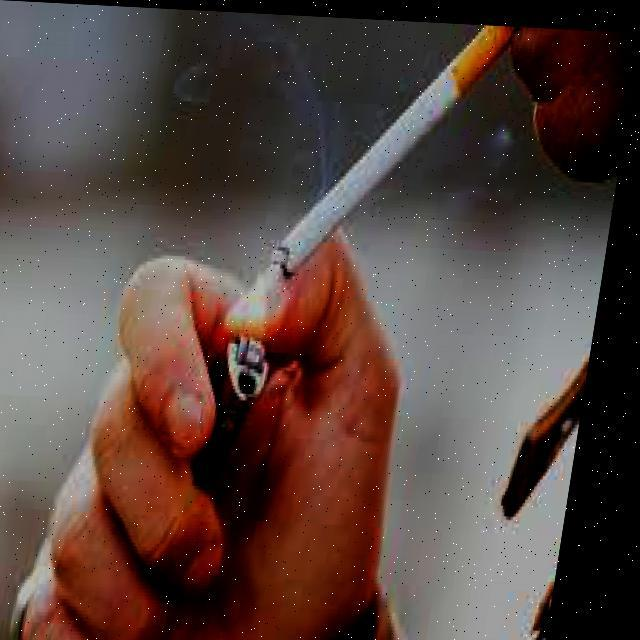Fire: (240, 250, 294, 338)
